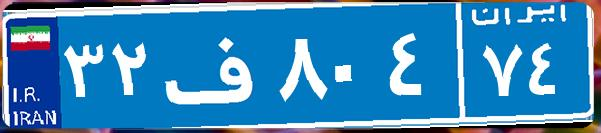0: (330, 28, 385, 110)
2: (110, 28, 158, 105)
3: (57, 26, 110, 107)
4: (385, 28, 445, 110), (525, 38, 570, 115)
7: (475, 38, 525, 113)
8: (273, 28, 330, 110)
ف: (158, 15, 273, 115)
